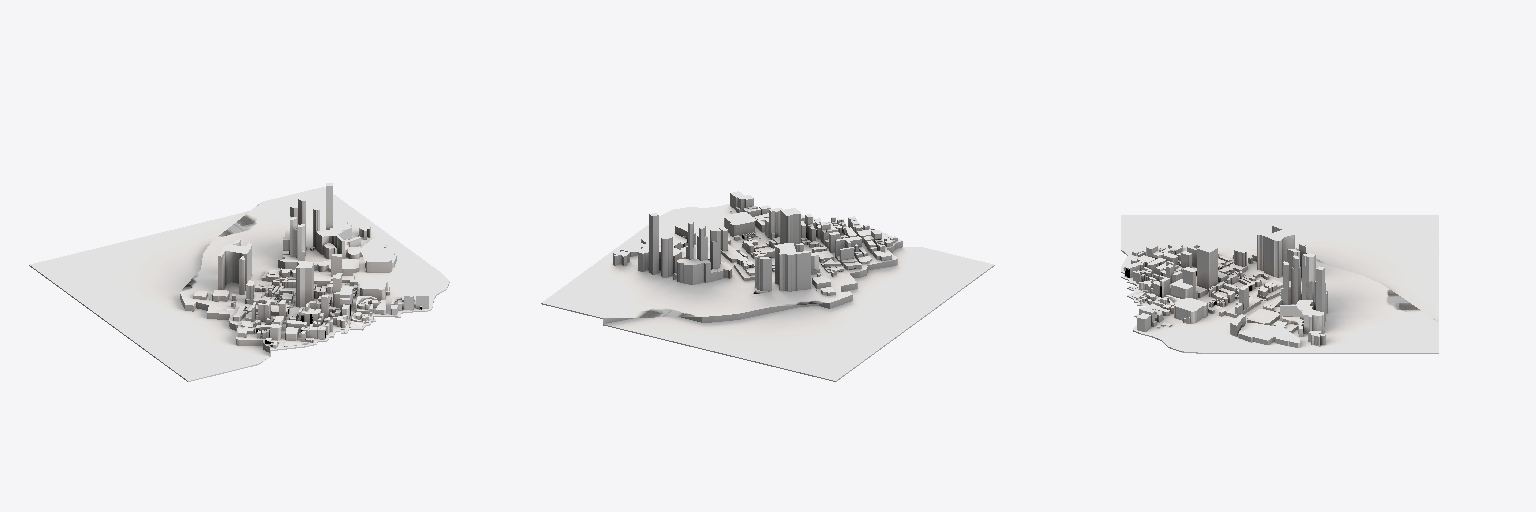
3 views of the same model, side by side, from view 1: azimuth 30°, elevation 25°; view 2: azimuth 150°, elevation 25°; view 3: azimuth 270°, elevation 25° (orthographic).
Parts seen in each view (by area): view 1: a:polySurface448; view 2: a:polySurface448; view 3: a:polySurface448.
Boxes of the visible parts, x1,y1,x2,y2 form: a:polySurface448: [29, 183, 449, 381]; a:polySurface448: [541, 191, 994, 381]; a:polySurface448: [1121, 215, 1438, 353].
Size of the model in its own units: 33.6 by 7.29 by 31.4.
Materials: 1 (1 with a texture image).